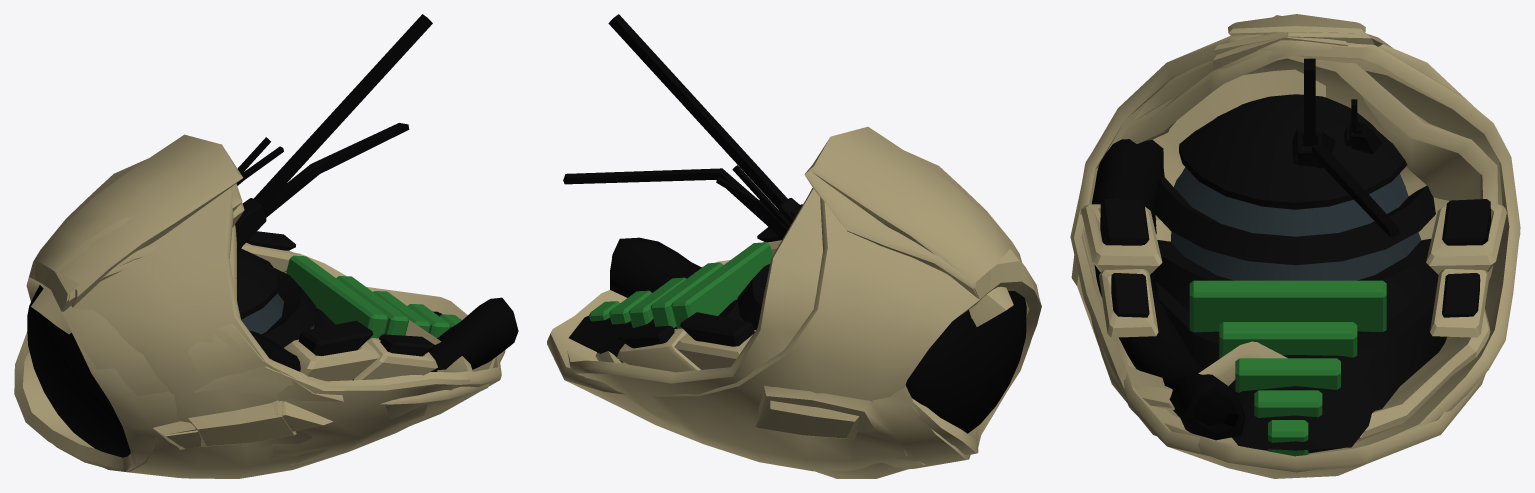
File: base_ship_breakable.FBX
The picture shows the model from 3 angles, left to right: view 1: azimuth 30°, elevation 25°; view 2: azimuth 150°, elevation 25°; view 3: azimuth 270°, elevation 25°; orthographic projection. The views are drawn at different scales.
Parts seen in each view (by area): view 1: hullUndamaged, hullDamaged2, hull, hullDamaged1, antenna, health3, antennaDamaged, engine3, engineSocket3, engine4, health4, engineSocket4 (+4 smaller); view 2: hullUndamaged, hullDamaged1, hull, antenna, hullDamaged2, health3, antennaDamaged, engine2, engineSocket1, engine1, health4, engineSocket2 (+2 smaller); view 3: hull, hullDamaged1, hullDamaged2, hullUndamaged, health3, health4, antennaDamaged, health5, engine1, engine3, engineSocket3, engineSocket1 (+7 smaller).
Part boxes in pixels (x1,y1,x2,y2): hullUndamaged: [26, 134, 505, 478]; hullDamaged2: [14, 202, 472, 469]; hull: [27, 248, 518, 457]; hullDamaged1: [42, 183, 501, 471]; antenna: [235, 14, 432, 251]; health3: [286, 255, 388, 339]; antennaDamaged: [235, 123, 409, 244]; engine3: [271, 339, 380, 447]; engineSocket3: [298, 320, 373, 356]; engine4: [354, 338, 437, 380]; health4: [336, 276, 408, 335]; engineSocket4: [379, 334, 434, 356]; hullUndamaged: [547, 126, 1021, 471]; hullDamaged1: [567, 166, 1040, 469]; hull: [569, 237, 1026, 433]; antenna: [608, 14, 802, 228]; hullDamaged2: [595, 193, 1041, 478]; health3: [671, 242, 772, 328]; antennaDamaged: [563, 168, 799, 238]; engine2: [616, 328, 700, 372]; engineSocket1: [680, 312, 754, 346]; engine1: [674, 330, 755, 369]; health4: [650, 262, 723, 327]; engineSocket2: [618, 326, 674, 348]; hull: [1091, 94, 1446, 453]; hullDamaged1: [1078, 32, 1520, 478]; hullDamaged2: [1070, 15, 1497, 442]; hullUndamaged: [1080, 14, 1520, 473]; health3: [1189, 280, 1386, 332]; health4: [1219, 322, 1357, 358]; antennaDamaged: [1296, 121, 1399, 237]; health5: [1235, 358, 1340, 392]; engine1: [1426, 204, 1506, 274]; engine3: [1081, 204, 1162, 274]; engineSocket3: [1100, 199, 1149, 245]; engineSocket1: [1442, 199, 1490, 245].
Size of the model in its own units: 21.01 by 17.8 by 15.77.
